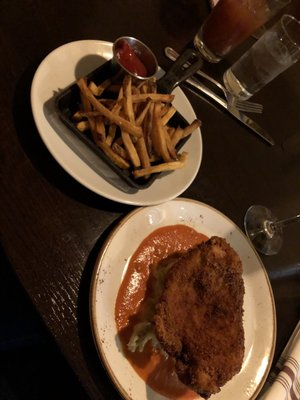pizza: (223, 12, 300, 111), (112, 36, 158, 80)
salad: (244, 206, 300, 257)
sushi: (88, 199, 286, 399)
